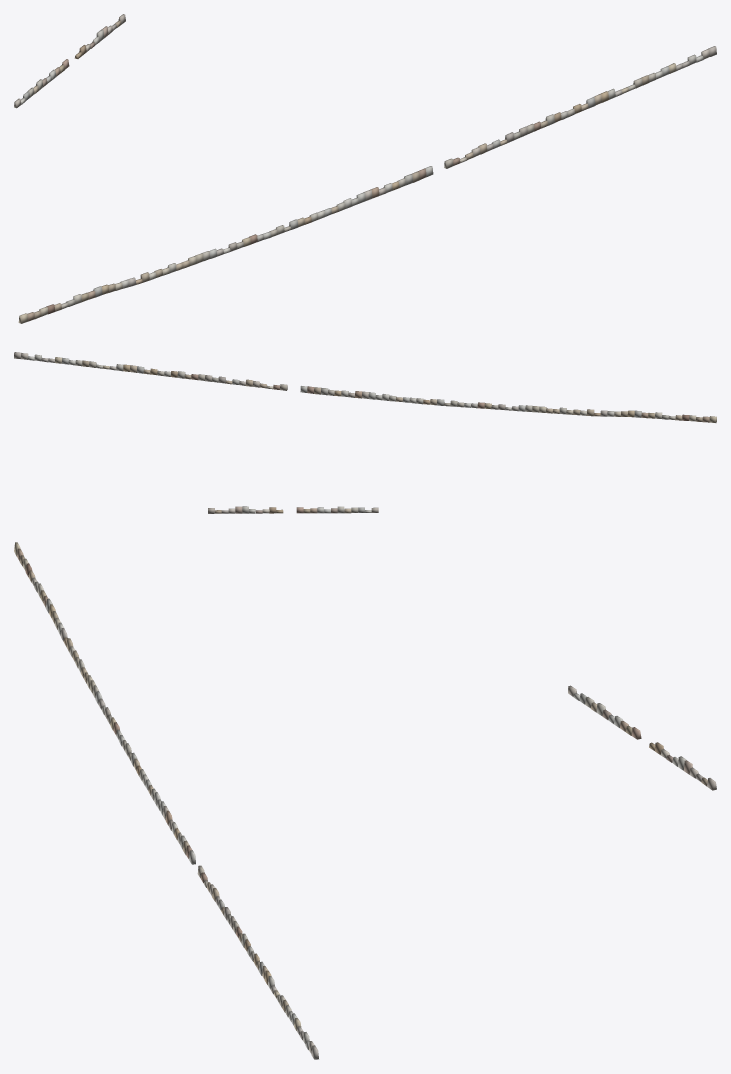
Rendered from farm_2_8_far.glb.
3 renders of one model, top to bottom at view 1: azimuth 30°, elevation 25°; view 2: azimuth 150°, elevation 25°; view 3: azimuth 270°, elevation 25°, orthographic. The views are drawn at different scales.
Parts seen in each view (by area): view 1: geometry_0; view 2: geometry_0; view 3: geometry_0.
Part boxes in pixels (x1,y1,x2,y2): geometry_0: (14,14,716,323); geometry_0: (14,352,716,513); geometry_0: (14,542,716,1059).
Size of the model in its own units: 159 by 5.72 by 98.1.
